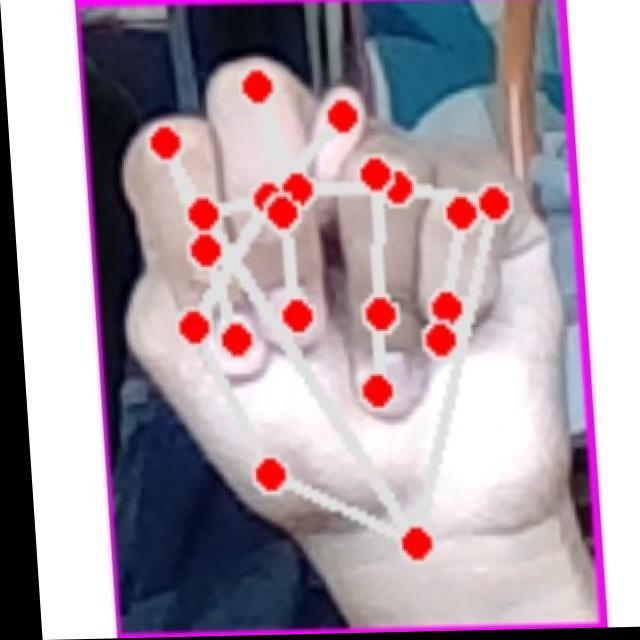N: (92, 48, 575, 603)
